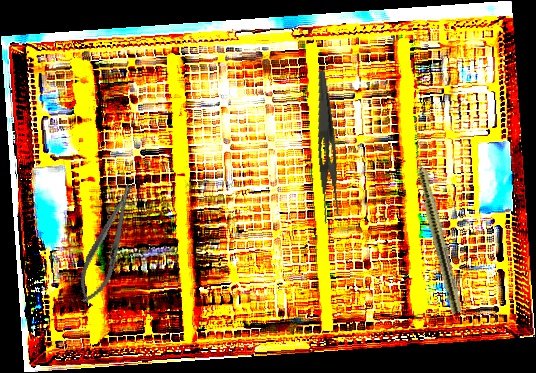Dressing Forceps: (301, 70, 347, 224)
Handpiece: (408, 139, 465, 315)
Needle Holder: (70, 179, 146, 308)
